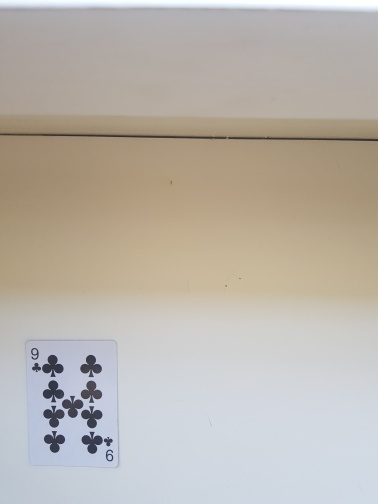nine: (25, 341, 117, 468)
